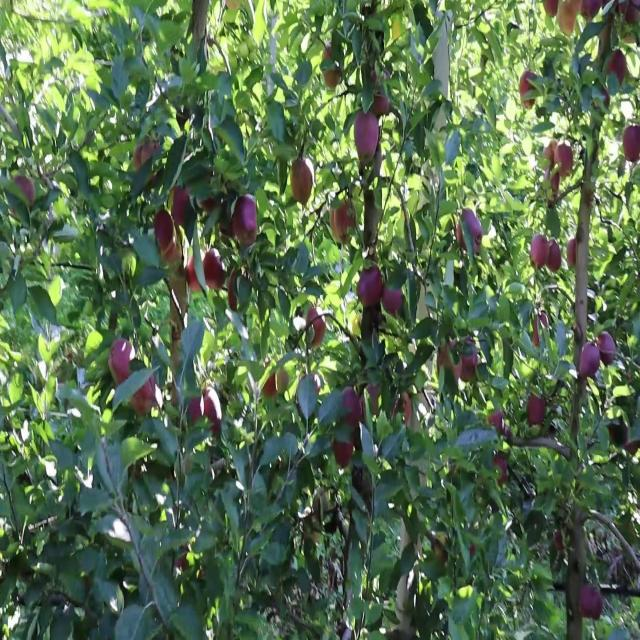apple: (156, 213, 184, 265), (232, 199, 259, 249), (356, 113, 380, 162), (456, 213, 484, 254), (108, 341, 133, 386), (132, 376, 157, 416), (292, 163, 315, 206), (204, 248, 226, 292), (360, 270, 384, 309), (580, 583, 604, 622), (332, 206, 356, 244), (340, 391, 363, 430), (132, 142, 161, 172), (440, 341, 461, 382), (172, 184, 191, 228), (460, 341, 480, 382), (308, 305, 327, 348), (324, 49, 343, 92), (324, 42, 342, 85), (204, 391, 221, 436), (580, 341, 600, 379), (160, 236, 184, 267), (560, 0, 580, 36), (608, 49, 628, 85), (156, 213, 176, 249), (544, 149, 560, 194), (556, 142, 575, 178), (384, 284, 404, 318), (596, 334, 616, 368), (160, 241, 184, 267), (188, 255, 204, 293), (364, 383, 381, 418), (520, 71, 536, 108), (528, 398, 548, 427), (16, 177, 36, 206), (336, 440, 356, 469), (532, 234, 548, 270), (532, 312, 548, 348), (204, 398, 220, 434), (625, 127, 640, 164), (372, 92, 391, 121), (544, 149, 559, 185), (548, 241, 564, 274), (324, 63, 342, 92), (396, 398, 413, 427), (220, 206, 234, 240), (228, 270, 239, 313), (624, 426, 640, 455), (188, 398, 203, 425), (584, 0, 603, 21), (548, 163, 560, 196), (496, 455, 508, 487), (220, 213, 234, 240), (624, 7, 640, 28), (544, 0, 559, 20), (264, 376, 277, 398), (492, 412, 504, 434), (568, 241, 576, 268), (608, 426, 619, 443), (312, 376, 320, 396), (557, 533, 564, 553)
